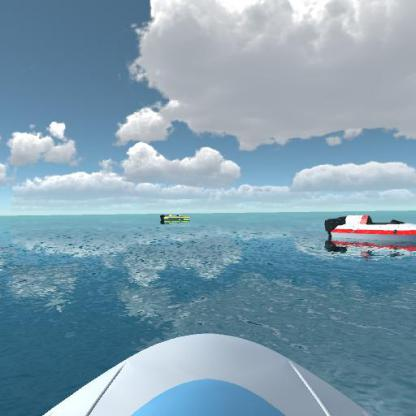usv2: (156, 209, 195, 228)
usv3: (317, 208, 415, 254)
